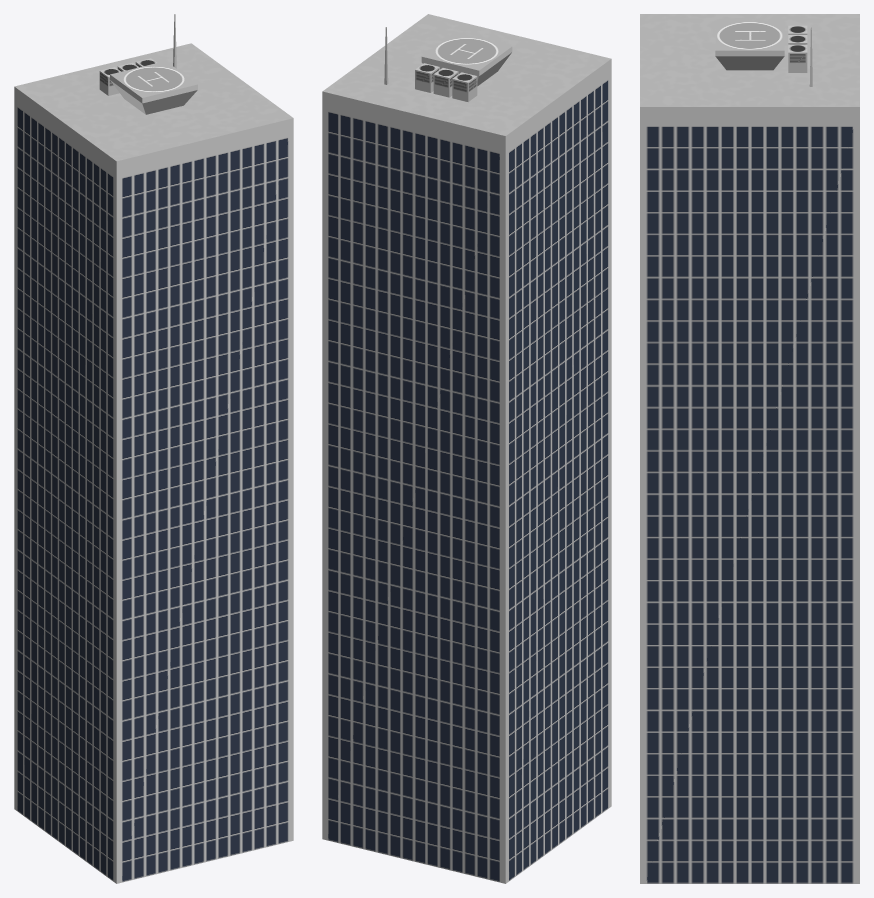
File: Building_HT_W1_001.fbx
3 views of the same model, side by side, from view 1: azimuth 30°, elevation 25°; view 2: azimuth 150°, elevation 25°; view 3: azimuth 270°, elevation 25° (orthographic). The views are drawn at different scales.
Visible parts, largest first — view 1: Building_HT_W1_001; view 2: Building_HT_W1_001; view 3: Building_HT_W1_001.
Boxes of the visible parts, x1,y1,x2,y2 form: Building_HT_W1_001: [14, 14, 293, 883]; Building_HT_W1_001: [322, 14, 611, 883]; Building_HT_W1_001: [640, 14, 859, 883].
Bounding box in the file's own units: 40.6 × 170 × 40.6.
